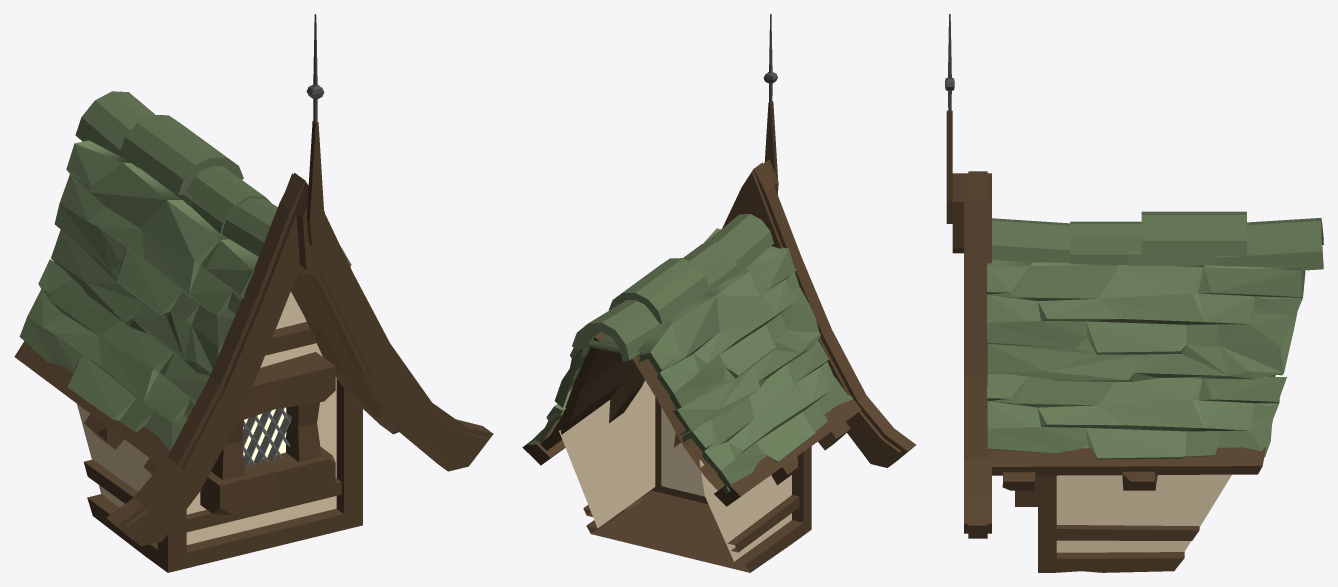
The model's file is SFHW_Building_Window_Attachable.fbx.
The picture shows the model from 3 angles, left to right: view 1: azimuth 30°, elevation 25°; view 2: azimuth 150°, elevation 25°; view 3: azimuth 270°, elevation 25°; orthographic projection. The views are drawn at different scales.
Visible parts, largest first — view 1: SFHW_Building_Window_Attachable; view 2: SFHW_Building_Window_Attachable; view 3: SFHW_Building_Window_Attachable.
Boxes of the visible parts, <box> form: SFHW_Building_Window_Attachable: <box>14,14,493,572</box>; SFHW_Building_Window_Attachable: <box>522,14,915,572</box>; SFHW_Building_Window_Attachable: <box>945,14,1323,572</box>.
Bounding box in the file's own units: 462 × 668 × 444.
